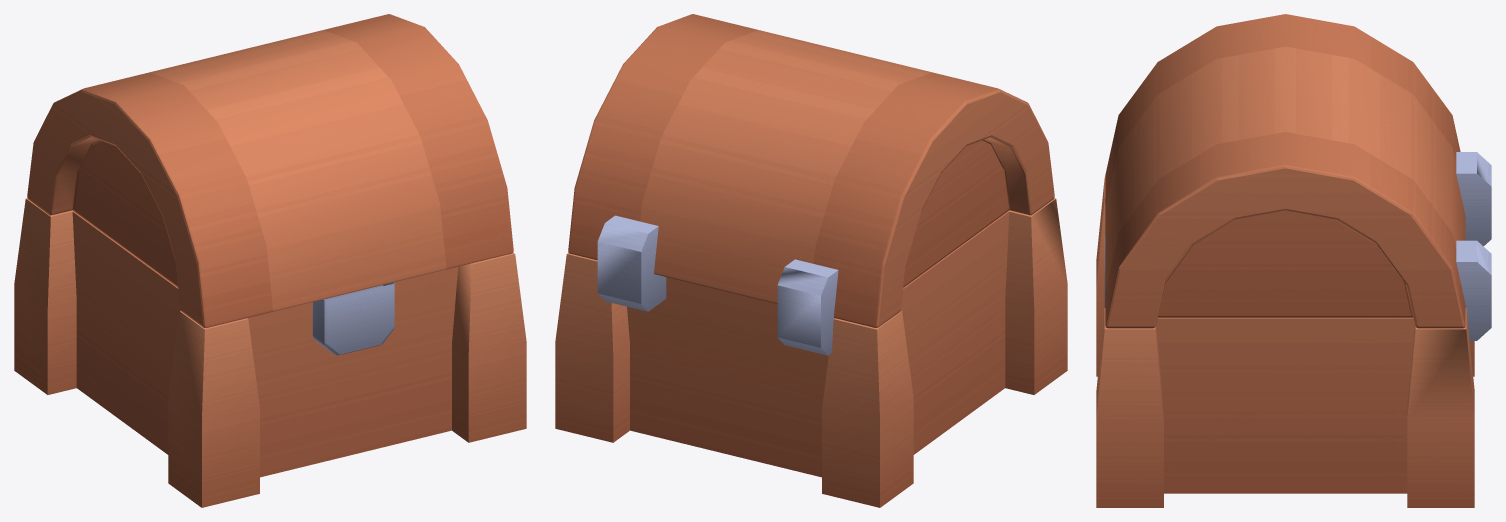
The model's file is kenney-survival.glb.
The picture shows the model from 3 angles, left to right: view 1: azimuth 30°, elevation 25°; view 2: azimuth 150°, elevation 25°; view 3: azimuth 270°, elevation 25°; orthographic projection.
Parts seen in each view (by area): view 1: lid, chest; view 2: lid, chest; view 3: lid, chest.
Part boxes in pixels (box(x1,y1,x2,y2)): lid: box(27, 14, 513, 355); chest: box(14, 198, 526, 507); lid: box(568, 14, 1054, 327); chest: box(555, 198, 1067, 507); lid: box(1104, 14, 1465, 328); chest: box(1096, 152, 1491, 507).
Size of the model in its own units: 0.2604 by 0.2572 by 0.272.
1 material, 1 textured.
